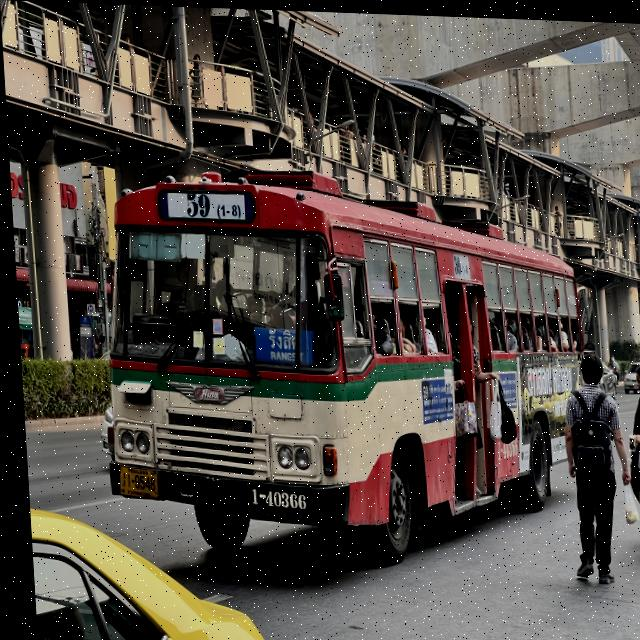BMTA-bus: (82, 154, 595, 573)
Bus Line Number: (173, 187, 247, 224)
Bus Side Number: (241, 485, 305, 514)
Destination Sign: (251, 323, 312, 366)
